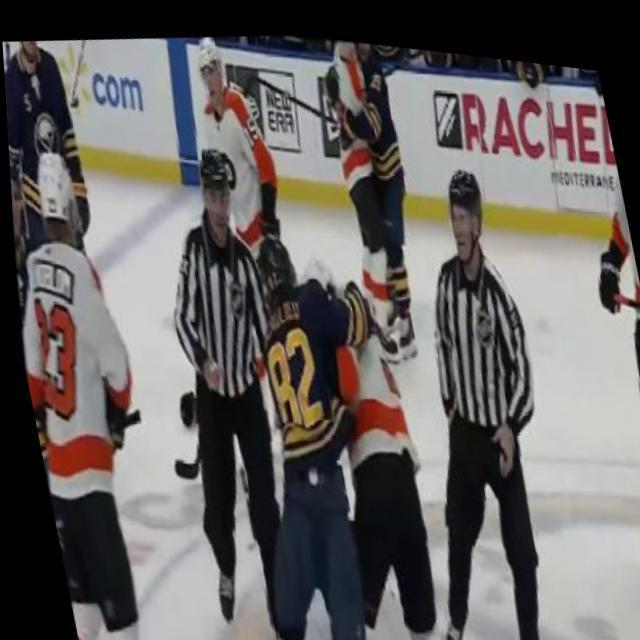fight: (202, 199, 480, 640)
